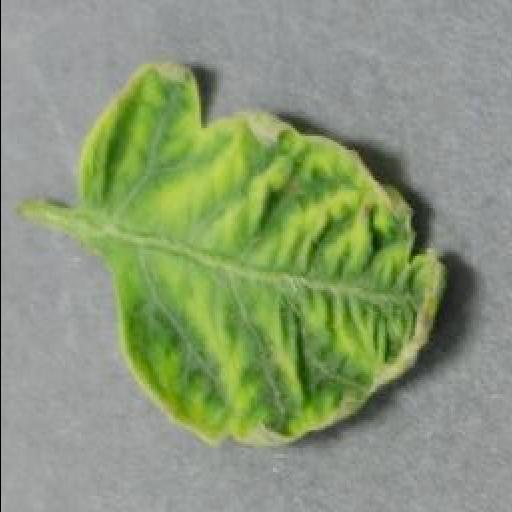disease_tomato: (64, 64, 446, 444)
